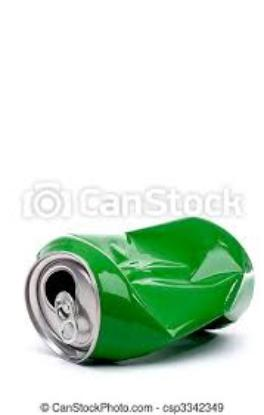Can: (18, 216, 258, 368)
